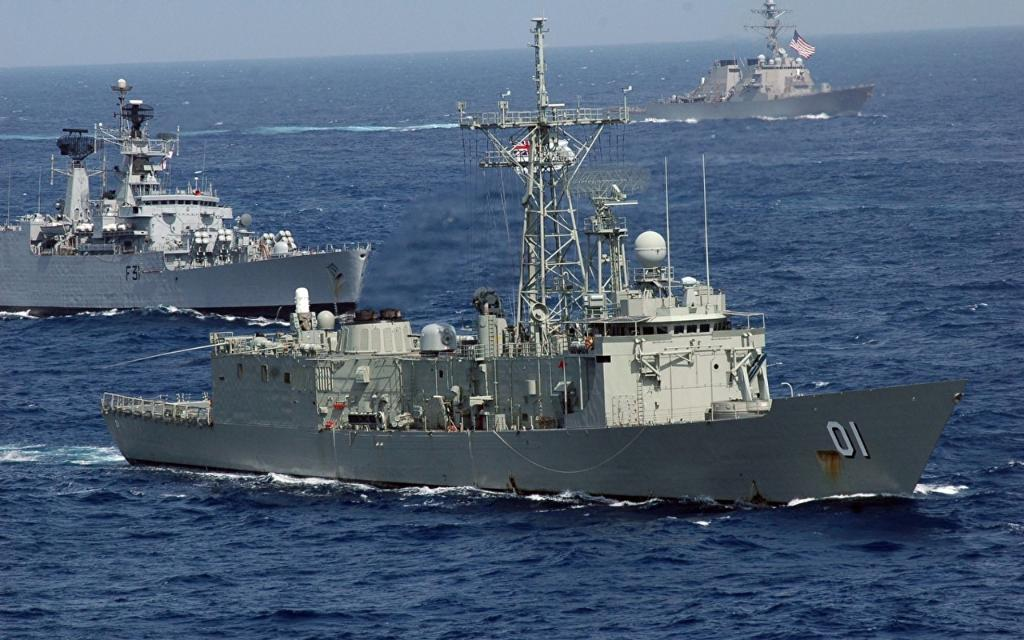Warship: (99, 0, 969, 508), (6, 75, 376, 315), (613, 0, 875, 120)
